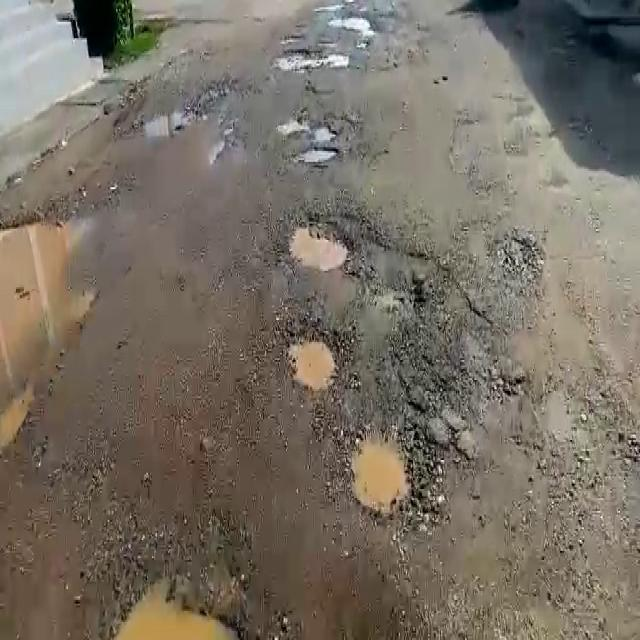Pothole: (112, 574, 236, 638), (348, 428, 424, 516), (280, 214, 352, 277), (286, 329, 341, 394), (271, 46, 344, 72), (139, 111, 188, 142), (279, 114, 337, 140), (290, 142, 340, 166)
